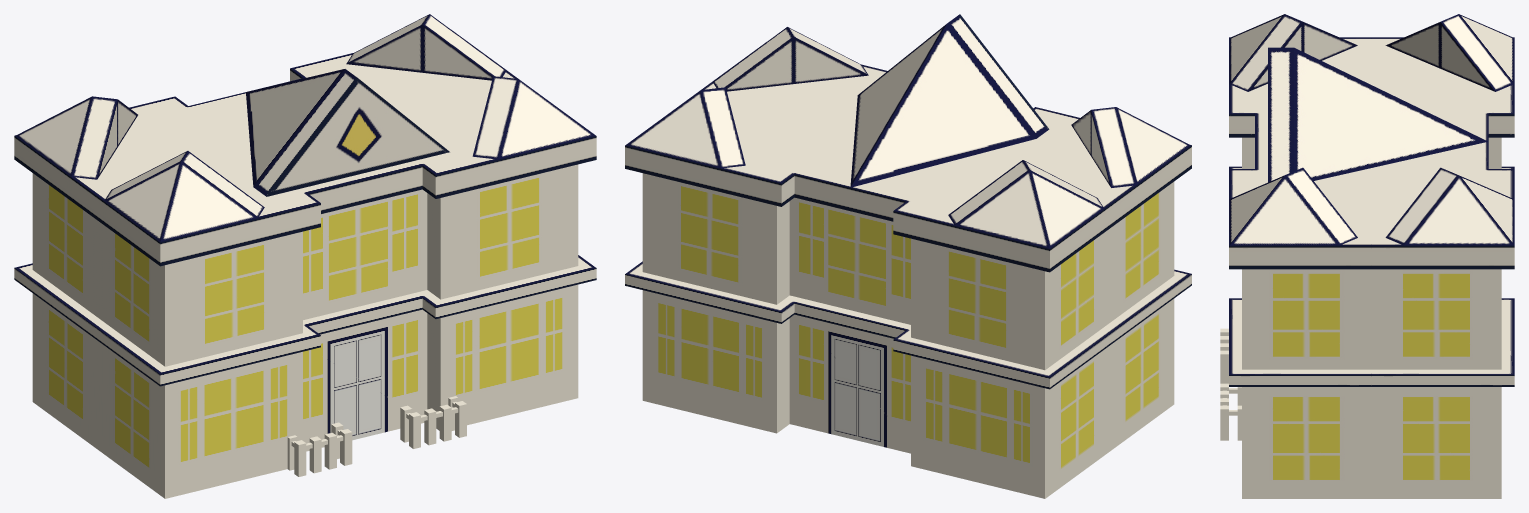
Rendered from Luxury home.FBX.
3 views of the same model, side by side, from view 1: azimuth 30°, elevation 25°; view 2: azimuth 150°, elevation 25°; view 3: azimuth 270°, elevation 25° (orthographic). The views are drawn at different scales.
Parts seen in each view (by area): view 1: Box002, Box008; view 2: Box002; view 3: Box002, Box008.
Part boxes in pixels (x1,y1,x2,y2): Box002: [14, 14, 596, 498]; Box008: [287, 396, 466, 476]; Box002: [625, 14, 1191, 498]; Box002: [1229, 14, 1514, 498]; Box008: [1220, 328, 1241, 440].
Size of the model in its own units: 224 by 177 by 134.
1 material, 1 textured.
